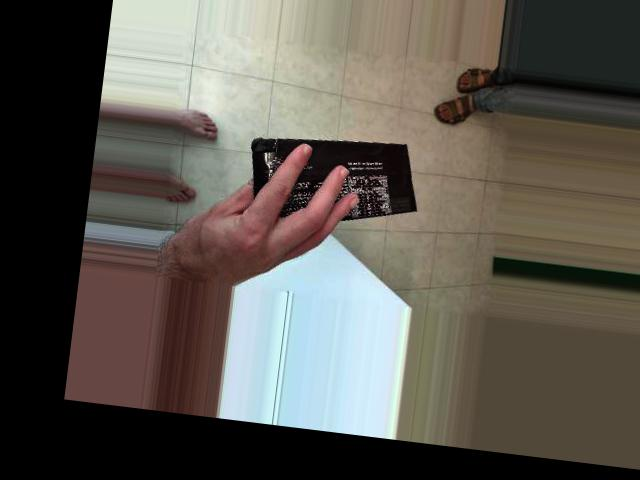chocolate: (302, 40, 434, 230)
